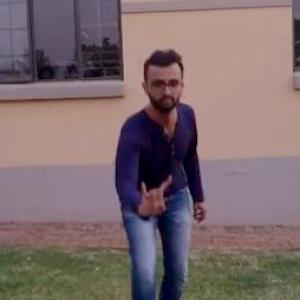takeoff-hand: (134, 168, 174, 226)
